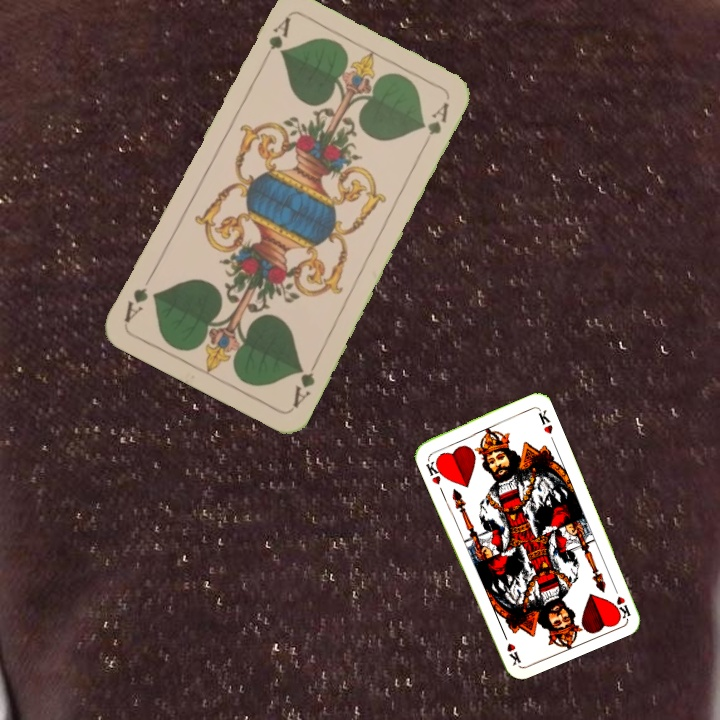GA: (257, 13, 293, 68), (289, 355, 321, 411)
HK: (608, 580, 633, 621), (422, 455, 447, 487)
